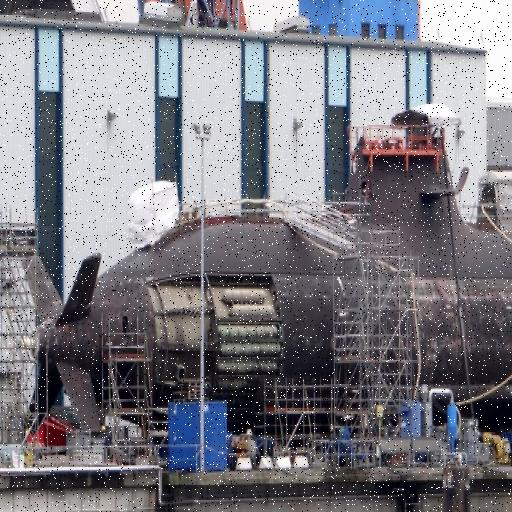submarine: (31, 143, 512, 426)
